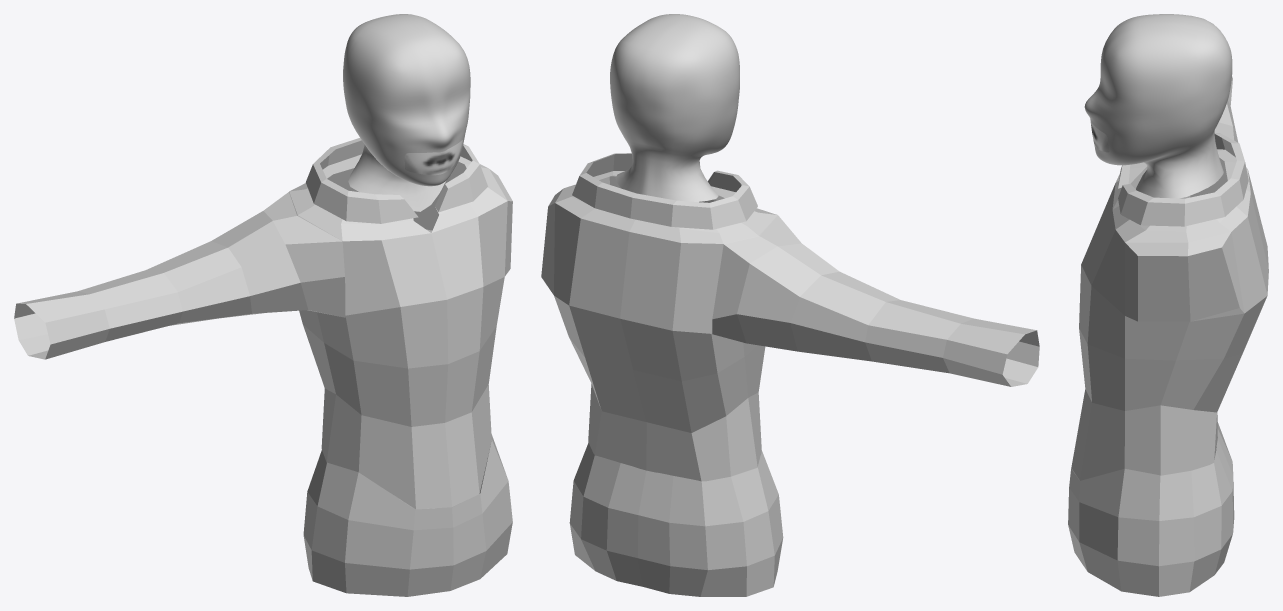
Rendered from MCPhotorensicsPreMade.fbx.
3 views of the same model, side by side, from view 1: azimuth 30°, elevation 25°; view 2: azimuth 150°, elevation 25°; view 3: azimuth 270°, elevation 25° (orthographic). The views are drawn at different scales.
Visible parts, largest first — view 1: Plane.004, Cube.002, Plane.005, Toon-IshHead, Toon-IshHead.001; view 2: Plane.004, Cube.002, Plane.005, Toon-IshHead; view 3: Plane.004, Toon-IshHead, Plane.005, Cube.002, Toon-IshHead.001.
Boxes of the visible parts, x1,y1,x2,y2 form: Plane.004: [289, 138, 512, 509]; Cube.002: [14, 192, 345, 359]; Plane.005: [303, 434, 512, 596]; Toon-IshHead: [343, 14, 470, 211]; Toon-IshHead.001: [404, 140, 462, 175]; Plane.004: [541, 153, 777, 481]; Cube.002: [712, 215, 1039, 386]; Plane.005: [569, 443, 783, 596]; Toon-IshHead: [610, 14, 739, 201]; Plane.004: [1071, 133, 1268, 480]; Toon-IshHead: [1084, 14, 1232, 198]; Plane.005: [1068, 422, 1234, 596]; Cube.002: [1130, 76, 1238, 198]; Toon-IshHead.001: [1090, 122, 1109, 152].
Bounding box in the file's own units: 454 × 496 × 170.
